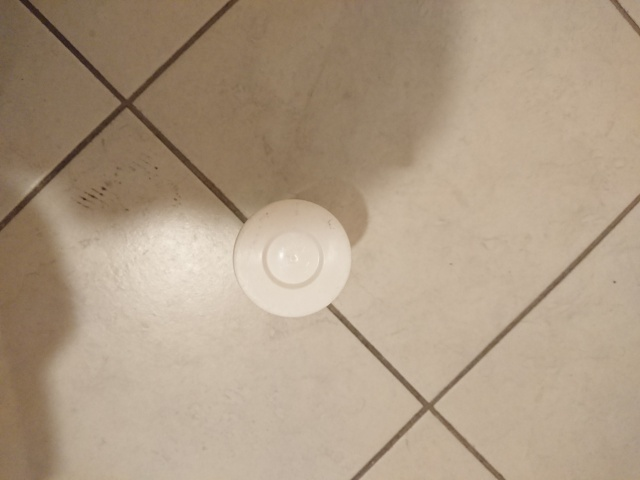Solana Pag Fine Sea Salt 250g: (228, 196, 356, 321)
